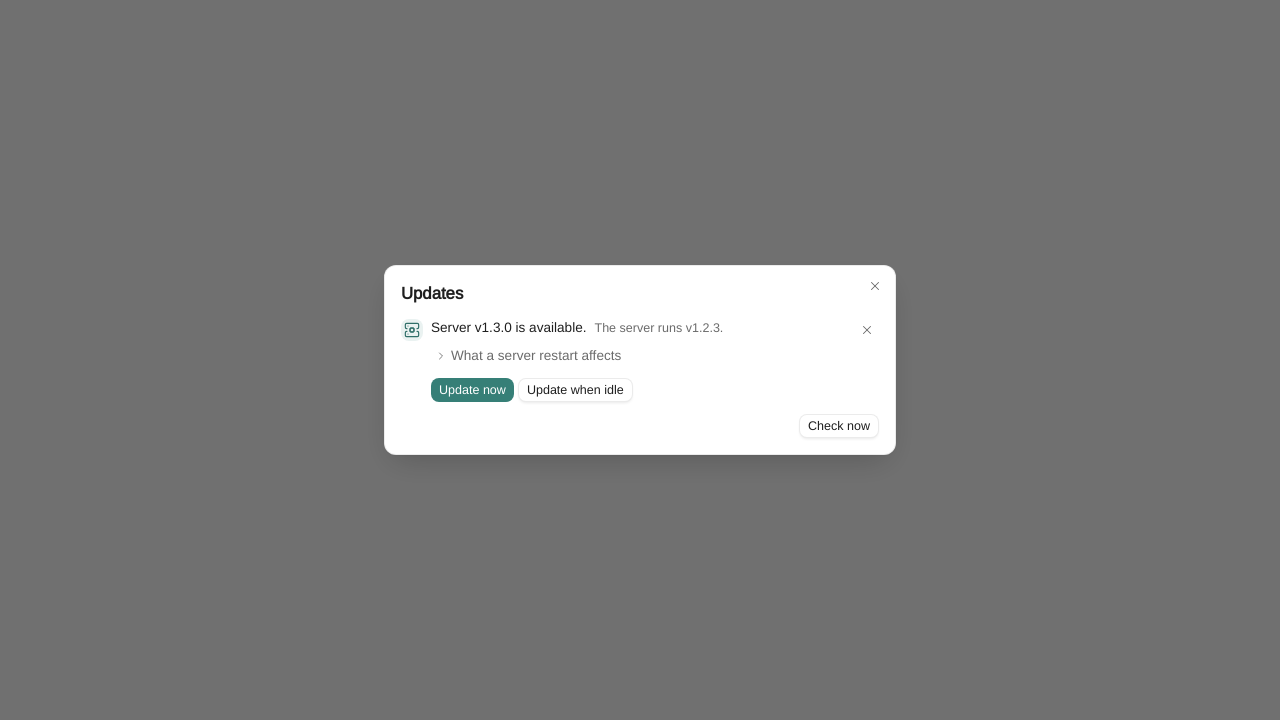
Test: the server update banner › the confirm dialog has a zero case
Click the 2nd button named "Update now" at (472, 390), box [431,378,514,402]
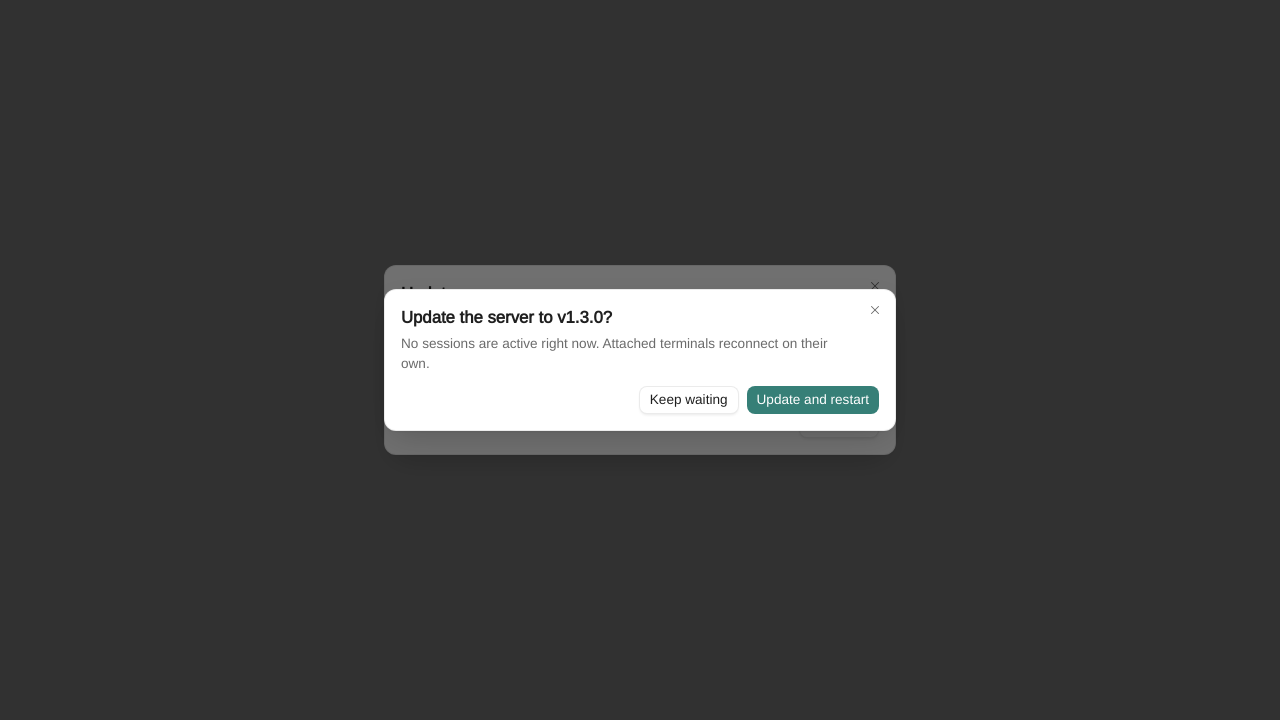
Now the text "No sessions are active right now. Attached terminals reconnect on their own." is shown, box [401,335,827,372]
